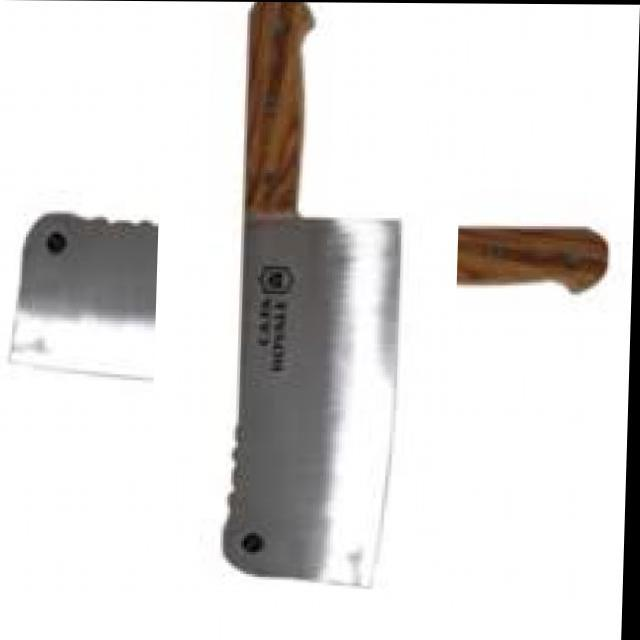knife: (218, 0, 405, 592)
